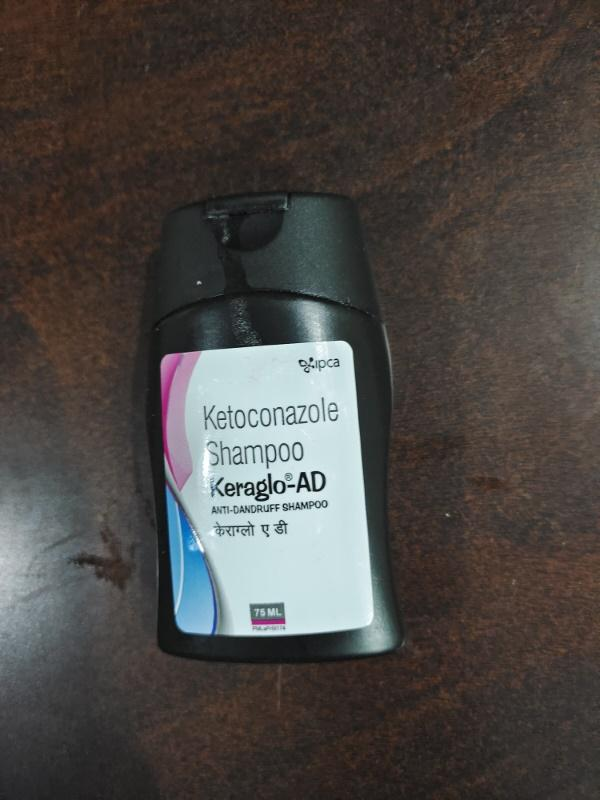KeraGlo: (113, 180, 442, 691)
